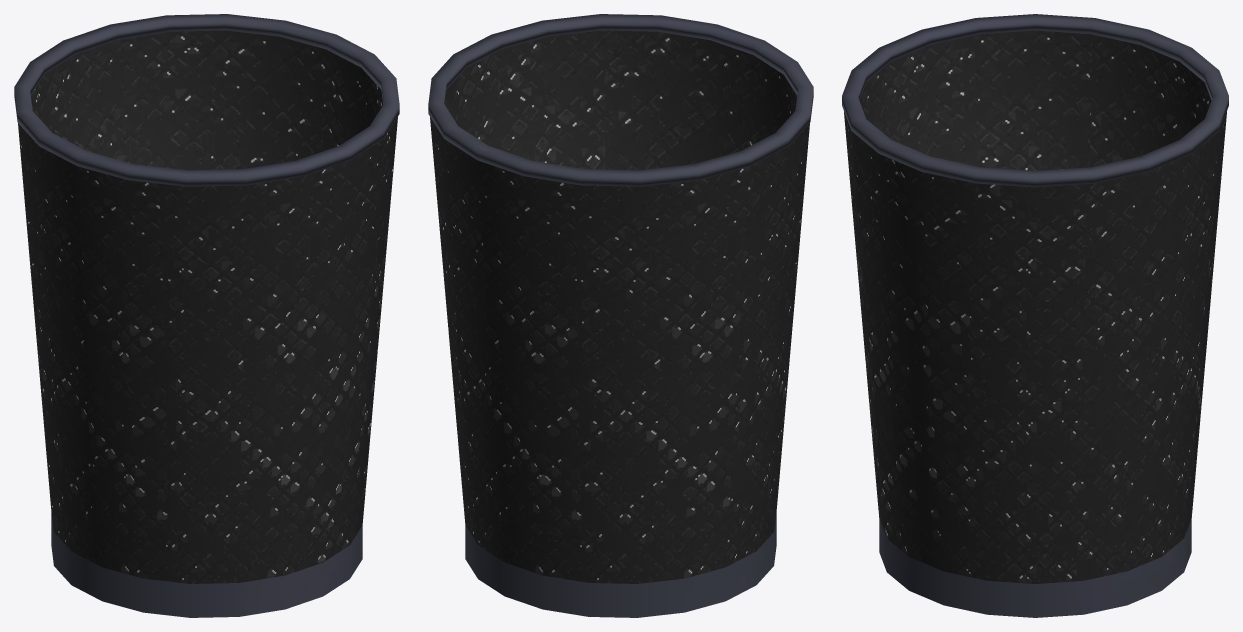
Rendered from desk-bin.glb.
3 renders of one model, left to right at view 1: azimuth 30°, elevation 25°; view 2: azimuth 150°, elevation 25°; view 3: azimuth 270°, elevation 25°, orthographic.
Parts seen in each view (by area): view 1: desk_bin; view 2: desk_bin; view 3: desk_bin.
Boxes of the visible parts, <box> form: desk_bin: <box>14,14,399,617</box>; desk_bin: <box>428,14,813,617</box>; desk_bin: <box>842,14,1228,617</box>.
Size of the model in its own units: 0.5941 by 0.7729 by 0.5941.
2 materials, 2 textured.
